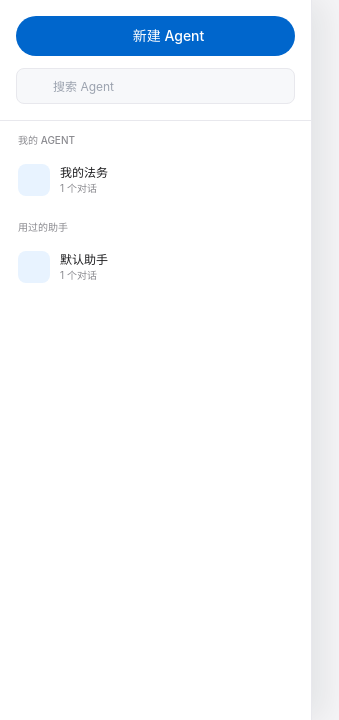
Test case: AgentRail 两个面板互切 › 返回键退回 Agent 列表
Step 1. Click the text "我的法务" → (84, 172), box [60,164,108,180]
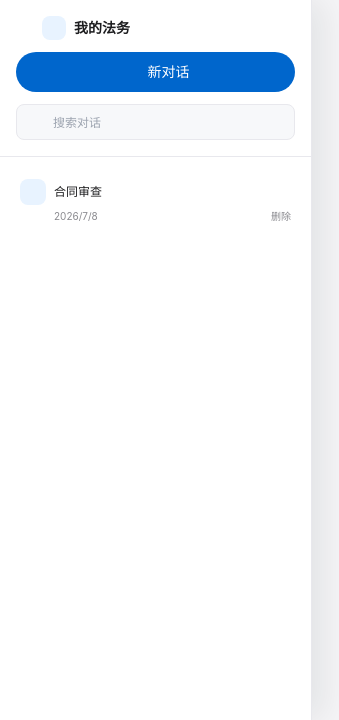
Step 2. Click the button with aria-label "返回 Agent 列表" → (102, 28), box [16,16,295,40]
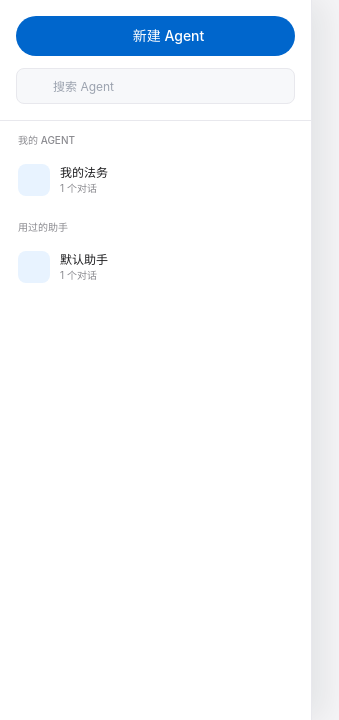
Expected: the text "我的 Agent" is shown, [18,134,75,146]
